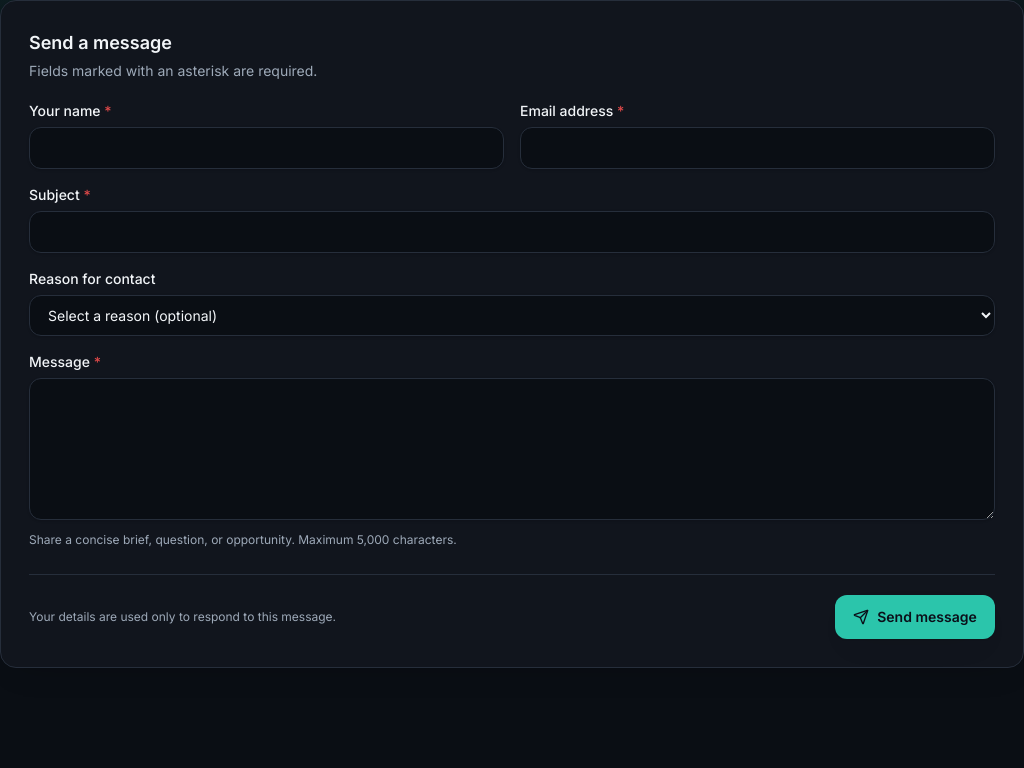
ContactForm › submits a valid message and shows confirmation
This screenshot has width=1024, height=768.
Type "Test Visitor" into the field labelled "Your name *" at x=266, y=148, box [29, 127, 504, 169]
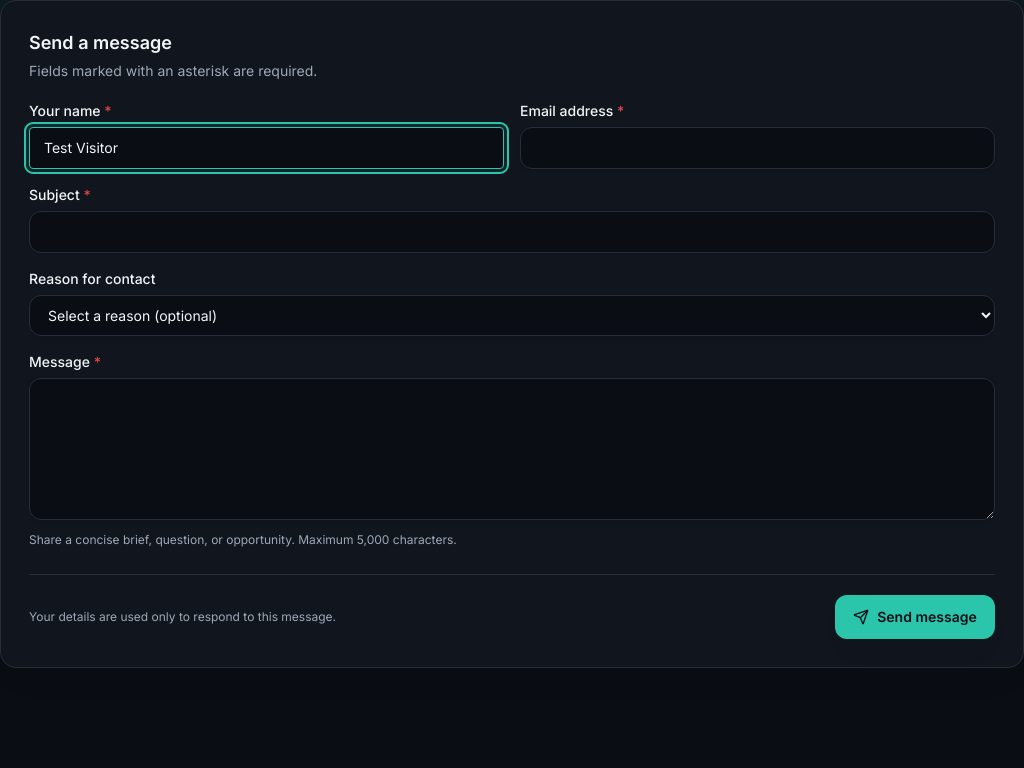
Type "visitor@example.com" into the field labelled "Email address *" at x=758, y=148, box [520, 127, 995, 169]
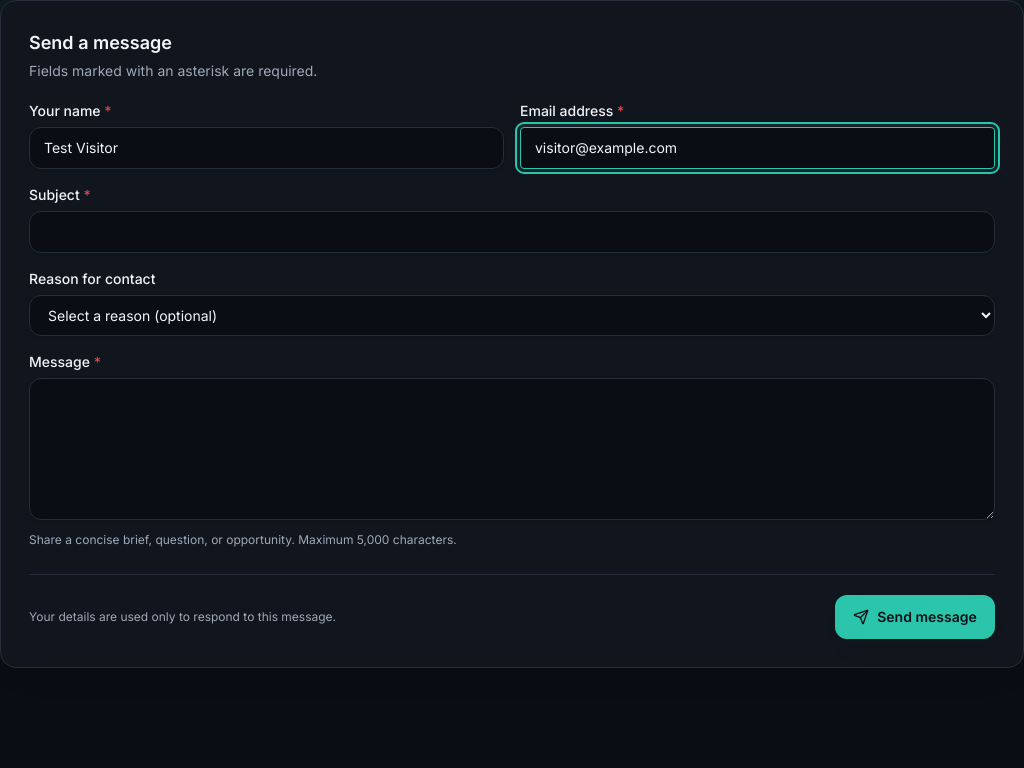
Type "A genuine enquiry" into the field labelled "Subject *" at x=512, y=232, box [29, 211, 995, 253]
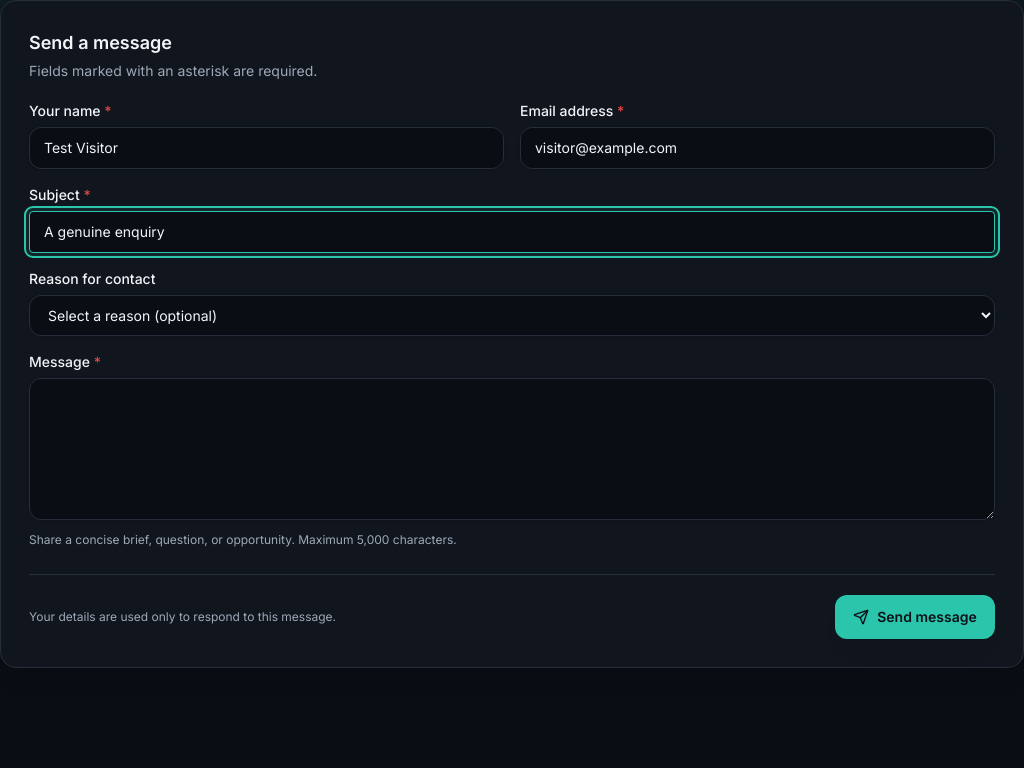
Type "Hello, I would like to discuss a software development opportunity with you." into the text box labelled "Message *" at x=512, y=449, box [29, 378, 995, 520]
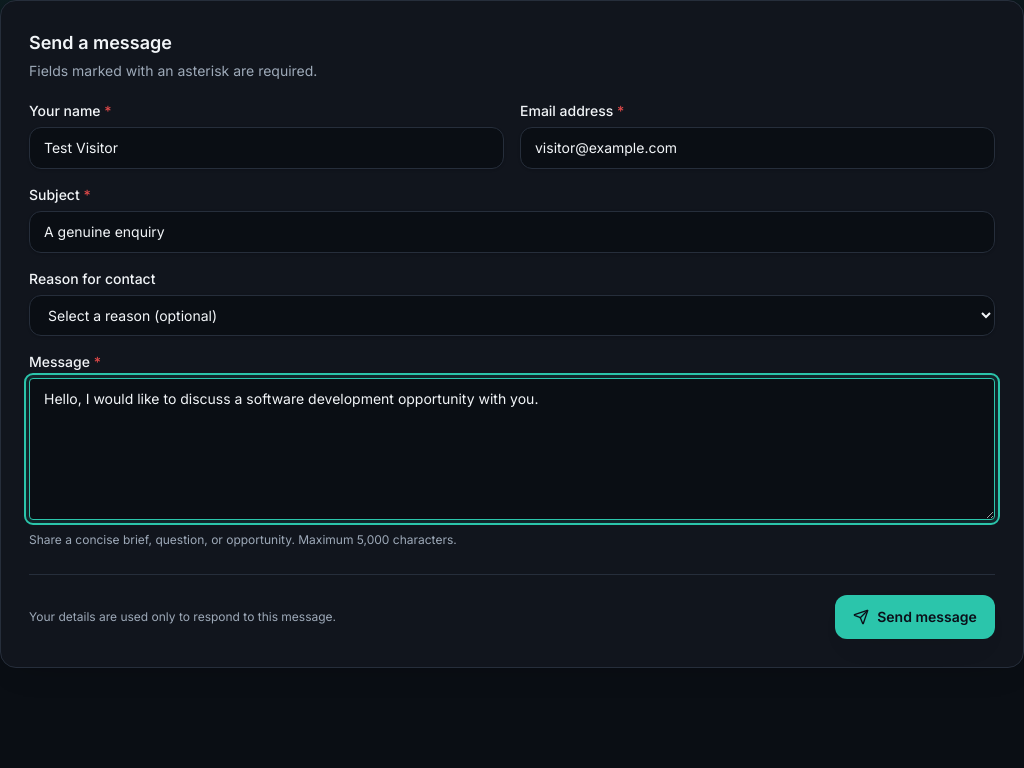
Click the button "Send message" at x=915, y=617, box [835, 595, 995, 639]
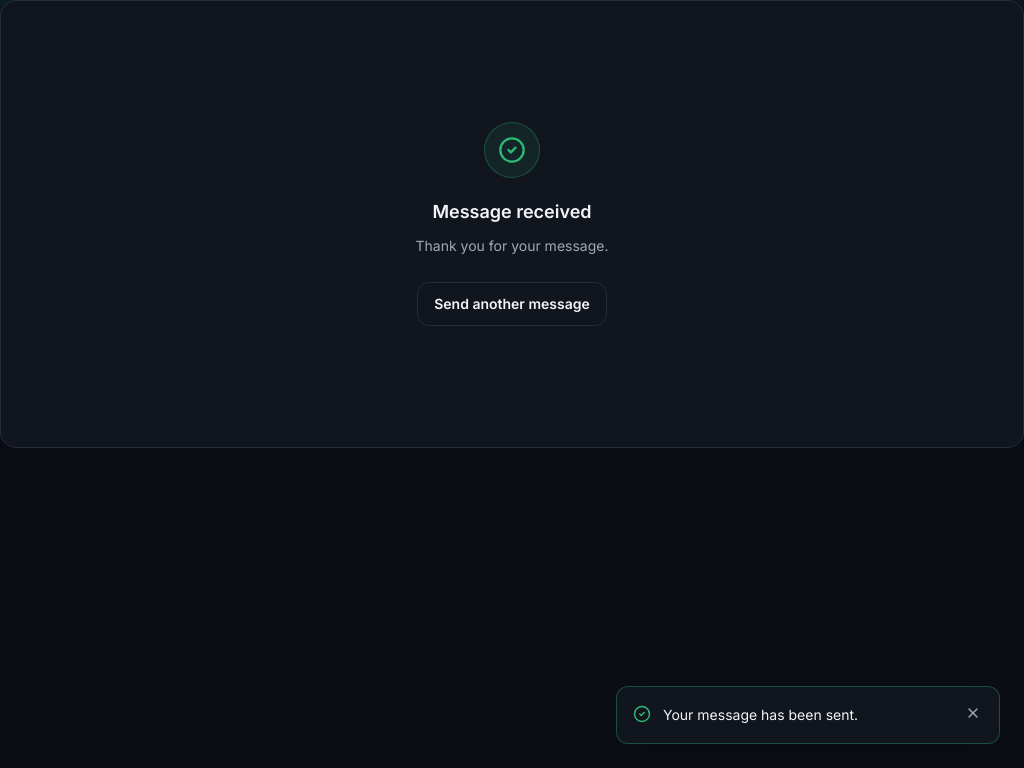
Result: the heading "Message received" is shown at [432, 198, 592, 226]
